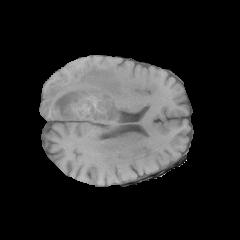glioma: (42, 64, 121, 121)
